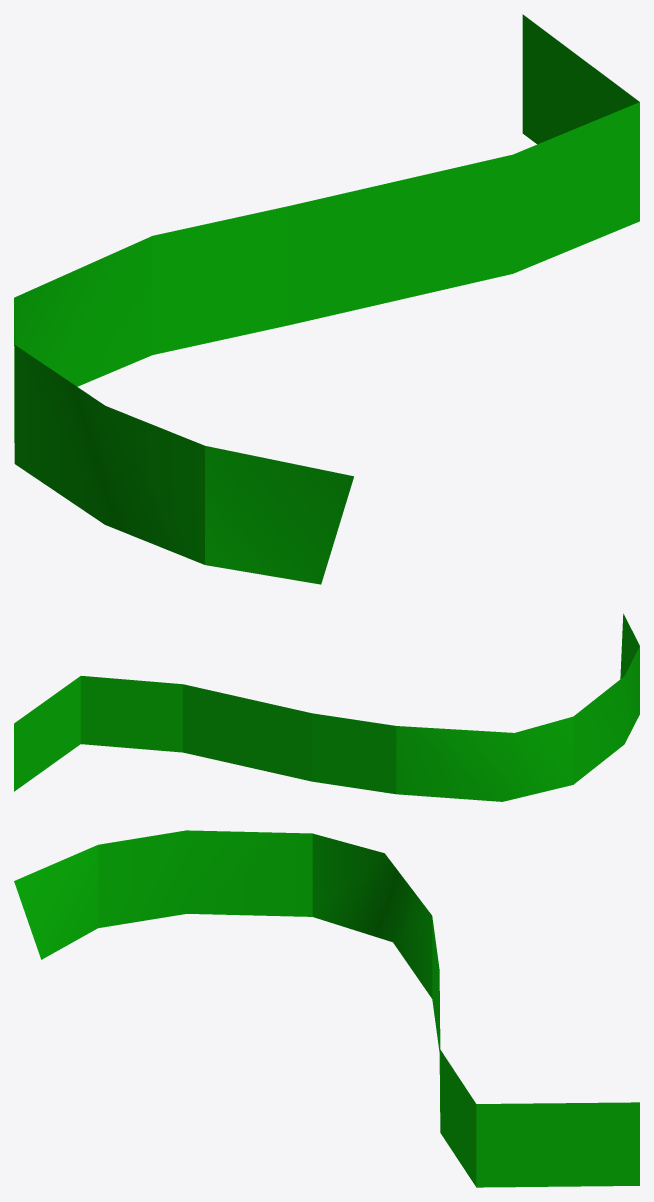
The model's file is M8_Idiot_Stopper_02.glb.
3 renders of one model, top to bottom at view 1: azimuth 30°, elevation 25°; view 2: azimuth 150°, elevation 25°; view 3: azimuth 270°, elevation 25°, orthographic. The views are drawn at different scales.
Parts seen in each view (by area): view 1: M8_IDIOT_STOPPER_02; view 2: M8_IDIOT_STOPPER_02; view 3: M8_IDIOT_STOPPER_02.
Boxes of the visible parts, left/top/right/bottom form: M8_IDIOT_STOPPER_02: left=14, top=14, right=639, bottom=584; M8_IDIOT_STOPPER_02: left=14, top=613, right=639, bottom=801; M8_IDIOT_STOPPER_02: left=14, top=830, right=639, bottom=1187.
Size of the model in its own units: 48.85 by 9.33 by 50.97.
